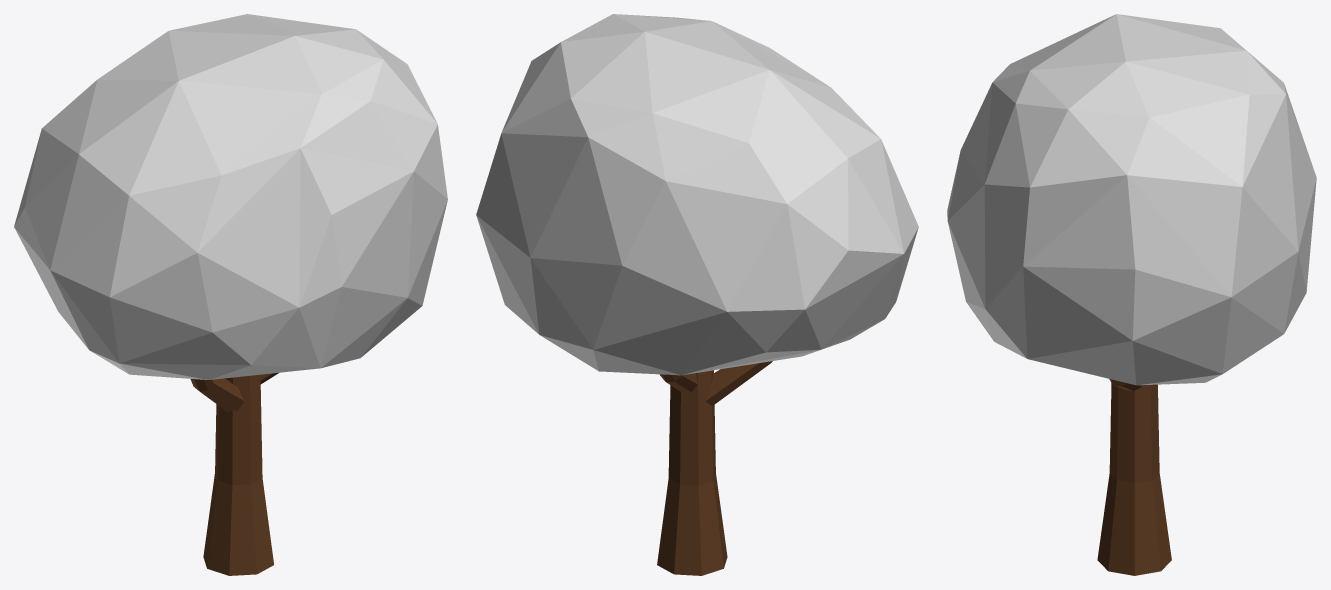
File: AppleTree_A.fbx
3 views of the same model, side by side, from view 1: azimuth 30°, elevation 25°; view 2: azimuth 150°, elevation 25°; view 3: azimuth 270°, elevation 25° (orthographic). The views are drawn at different scales.
Visible parts, largest first — view 1: AppleTree_A_Leaves_geo, AppleTree_A_Trunk_geo; view 2: AppleTree_A_Leaves_geo, AppleTree_A_Trunk_geo; view 3: AppleTree_A_Leaves_geo, AppleTree_A_Trunk_geo.
Part boxes in pixels (x1,y1,x2,y2): AppleTree_A_Leaves_geo: (14,14,447,379); AppleTree_A_Trunk_geo: (190,372,278,575); AppleTree_A_Leaves_geo: (476,14,918,375); AppleTree_A_Trunk_geo: (657,361,772,575); AppleTree_A_Leaves_geo: (947,14,1316,385); AppleTree_A_Trunk_geo: (1097,379,1171,575).
Size of the model in its own units: 280 by 356 by 227.
